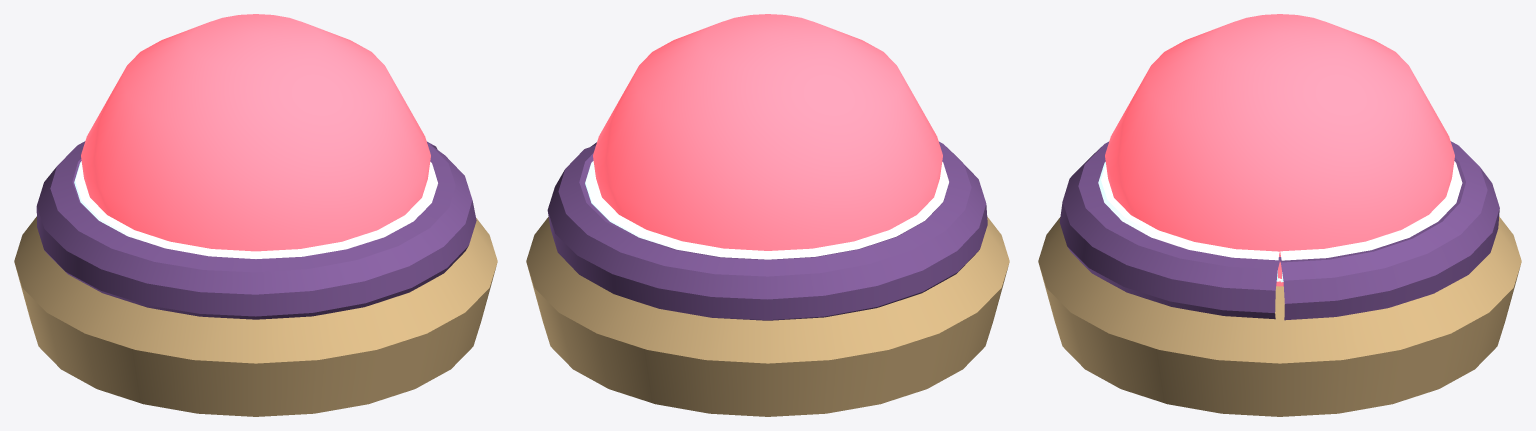
Rendered from ITEM_RedButton.fbx.
The picture shows the model from 3 angles, left to right: view 1: azimuth 30°, elevation 25°; view 2: azimuth 150°, elevation 25°; view 3: azimuth 270°, elevation 25°; orthographic projection.
Parts seen in each view (by area): view 1: ITEM_RedButton; view 2: ITEM_RedButton; view 3: ITEM_RedButton.
Part boxes in pixels (x1=…): ITEM_RedButton: x1=14, y1=14, x2=497, y2=416; ITEM_RedButton: x1=526, y1=14, x2=1009, y2=416; ITEM_RedButton: x1=1038, y1=14, x2=1521, y2=416.
Size of the model in its own units: 0.58 by 0.38 by 0.58.
